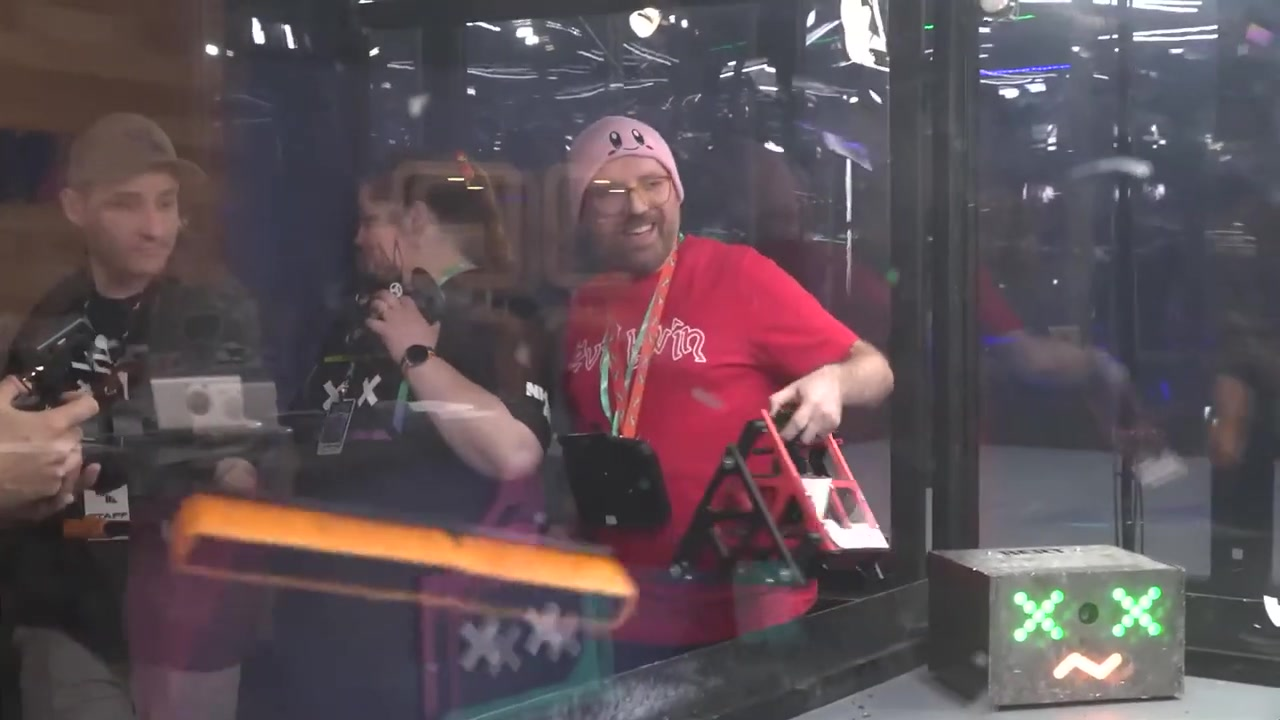combatbot: (659, 406, 904, 591)
housebot: (925, 541, 1187, 710)
